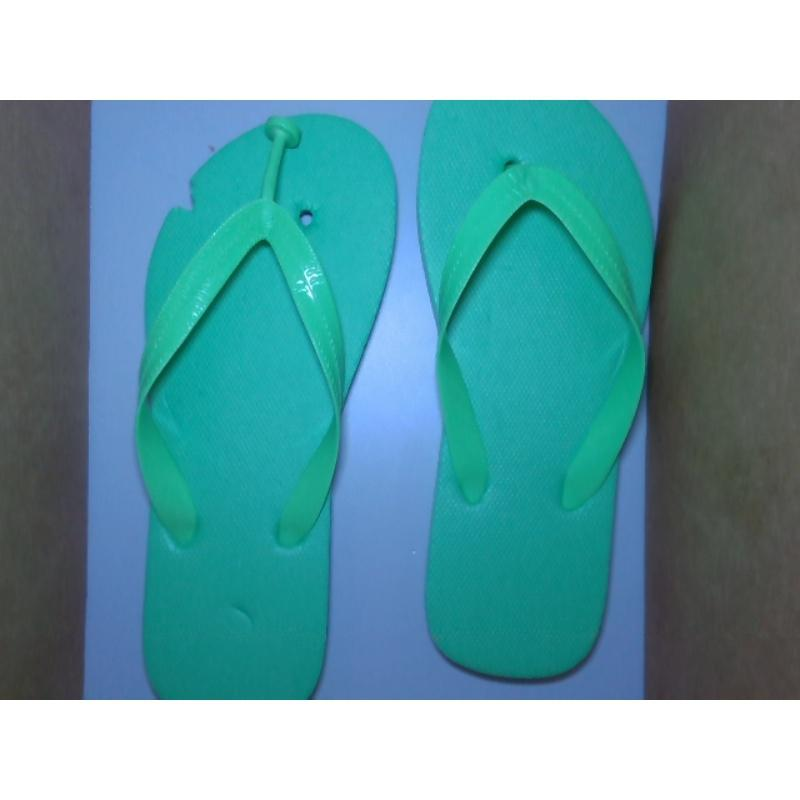chipped: (159, 160, 205, 224)
detached: (257, 106, 307, 184)
